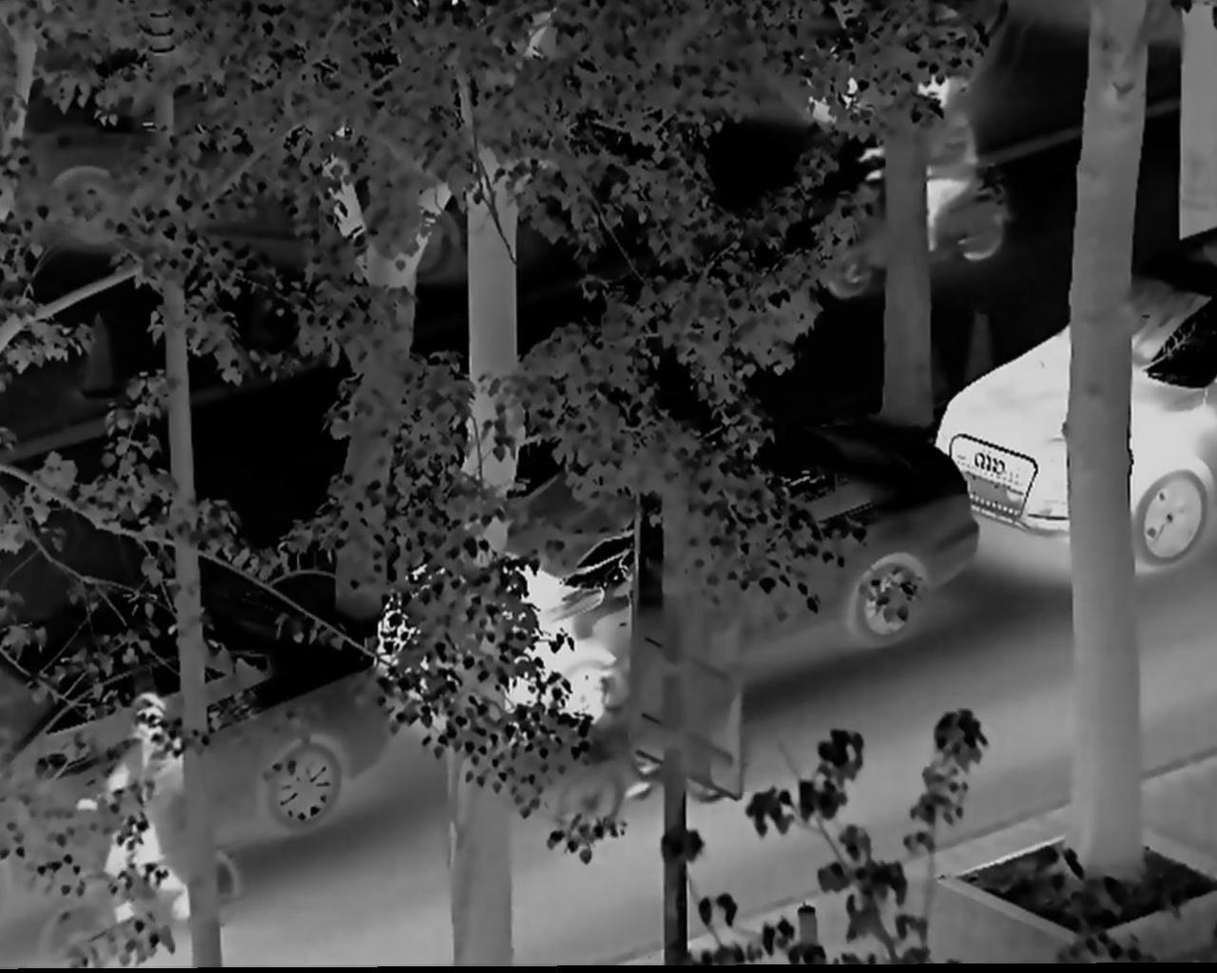person: (92, 695, 203, 925), (881, 70, 980, 275)
